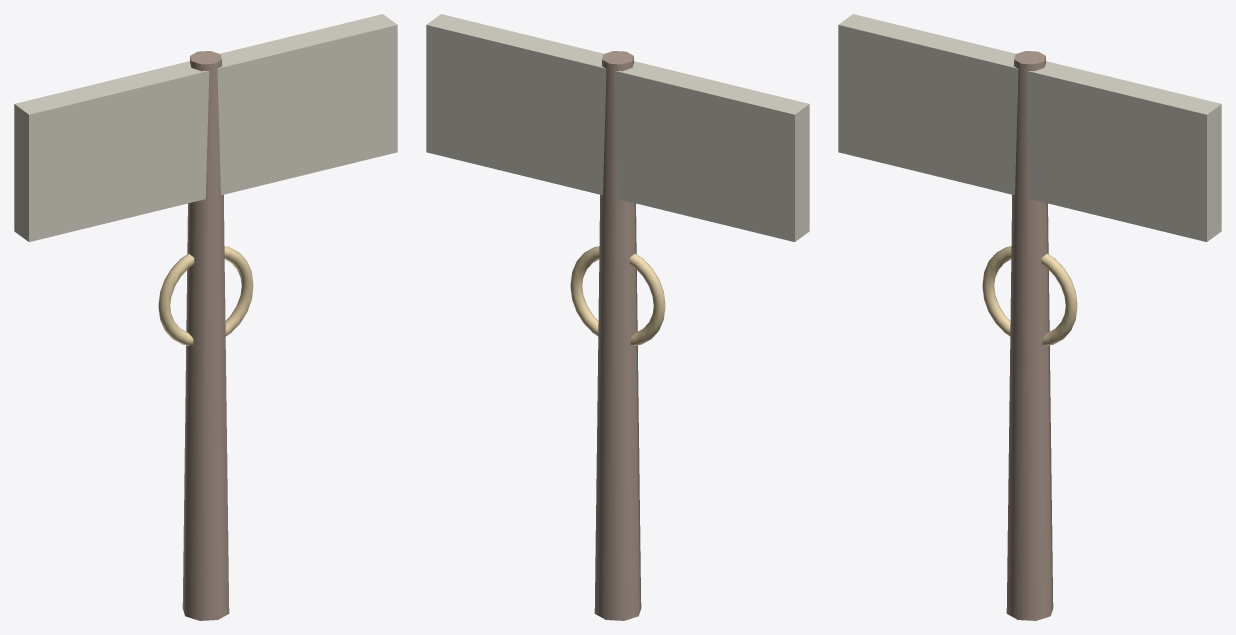
File: prop-sign.glb
3 views of the same model, side by side, from view 1: azimuth 30°, elevation 25°; view 2: azimuth 150°, elevation 25°; view 3: azimuth 330°, elevation 25° (orthographic).
Visible parts, largest first — view 1: sign; view 2: sign; view 3: sign.
Part boxes in pixels (x1,y1,x2,y2): sign: (14,14,397,620); sign: (426,14,809,620); sign: (838,14,1221,620).
Bounding box in the file's own units: 1.15 × 1.65 × 0.13.
